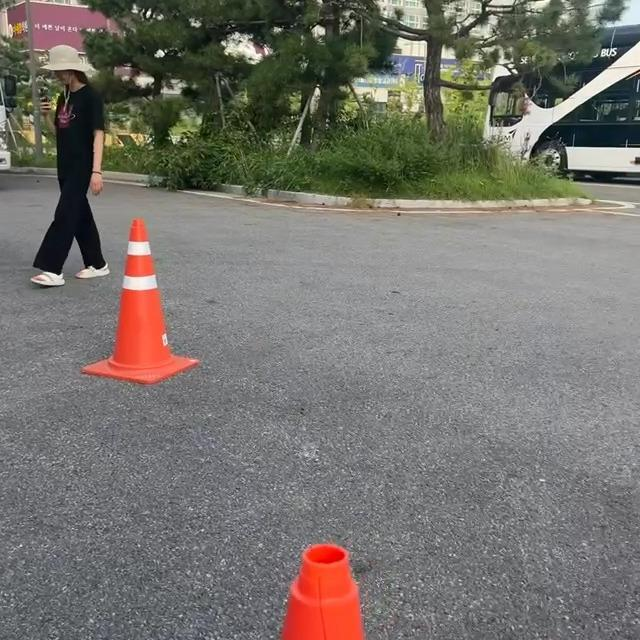fallen_object: (249, 476, 478, 640), (79, 207, 210, 405)
